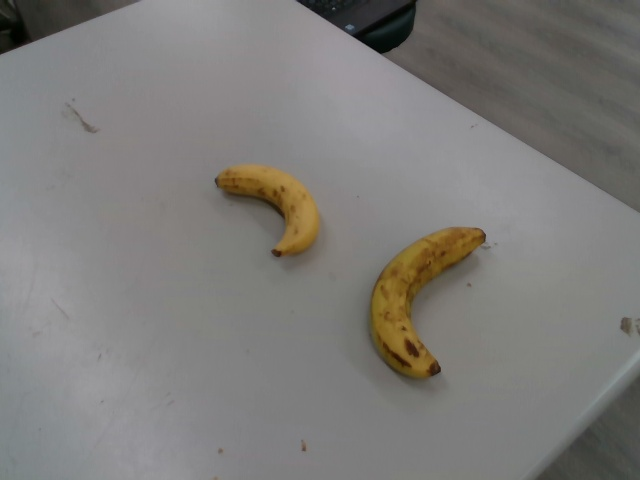banana: (365, 225, 485, 384), (213, 160, 321, 260)
